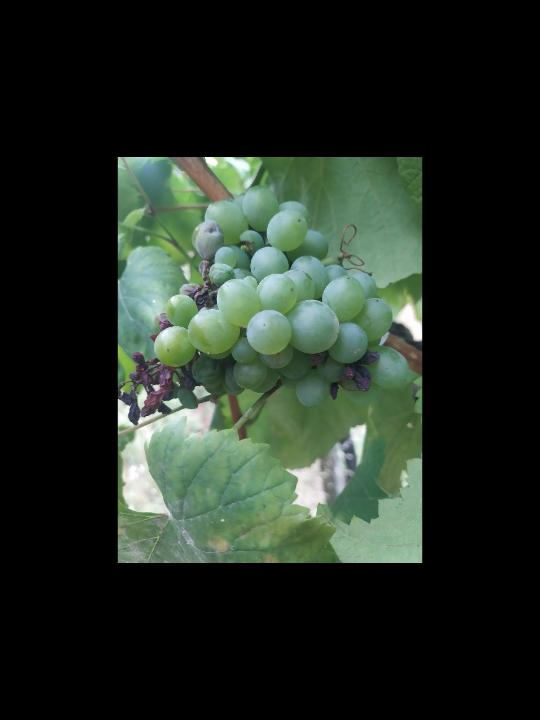grape: (118, 183, 411, 429)
